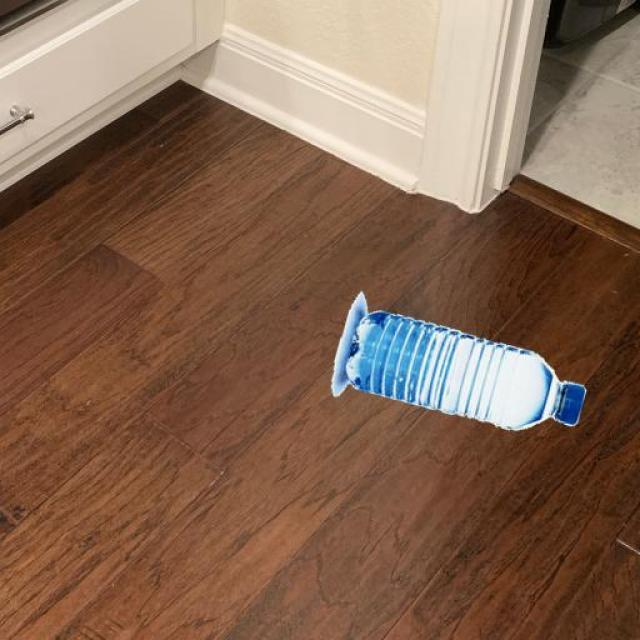bottle: (328, 288, 586, 432)
